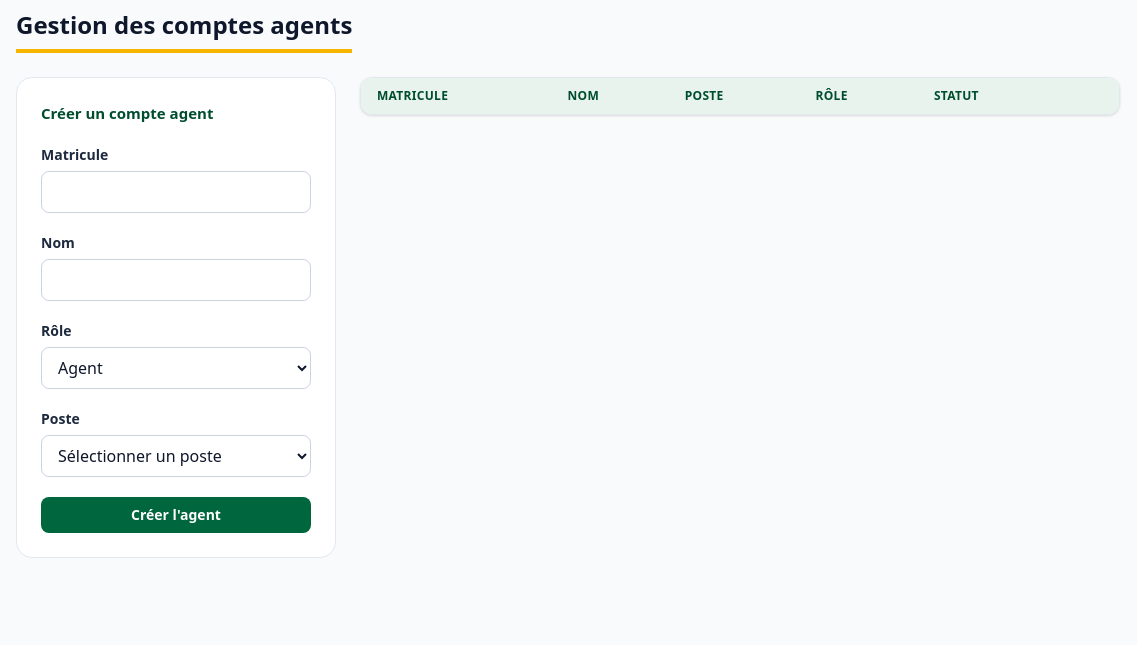
Test case: AgentsPage › affiche le message backend quand la création échoue
The width and height of the screenshot is (1137, 645).
Type "PN-1" into the field labelled "Matricule". click: (176, 192)
box: [41,170,311,212]
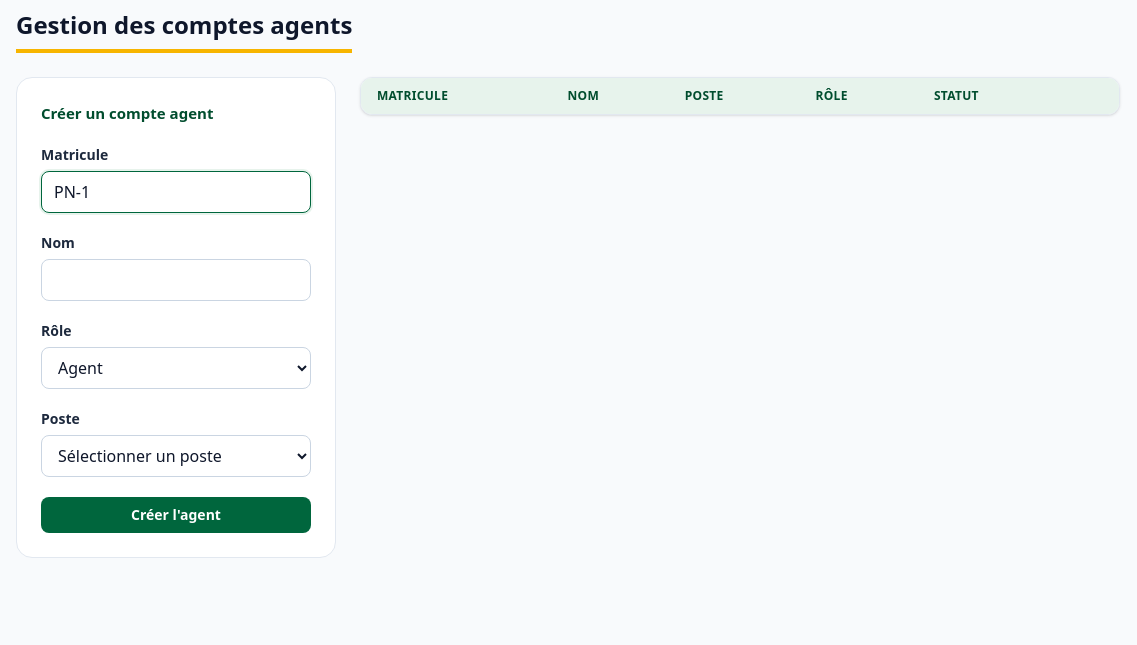
Type "Sow" into the field labelled "Nom". click: (176, 280)
box: [41,258,311,300]
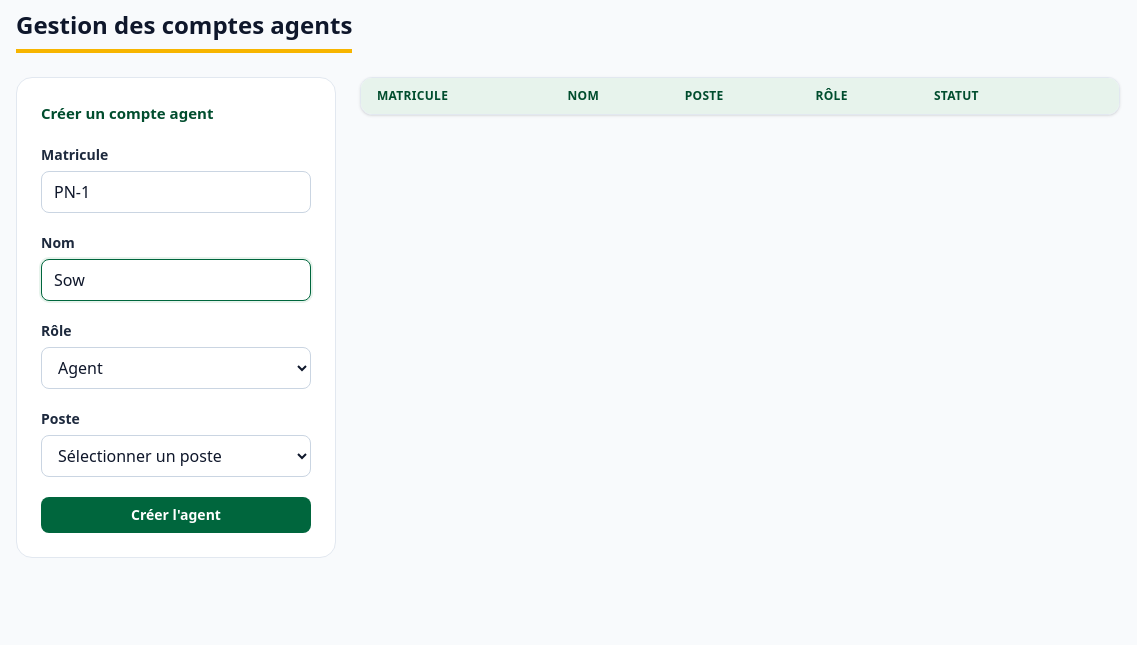
Select "Dakar" in the dropdown labelled "Poste". click: (176, 456)
box: [41,434,311,476]
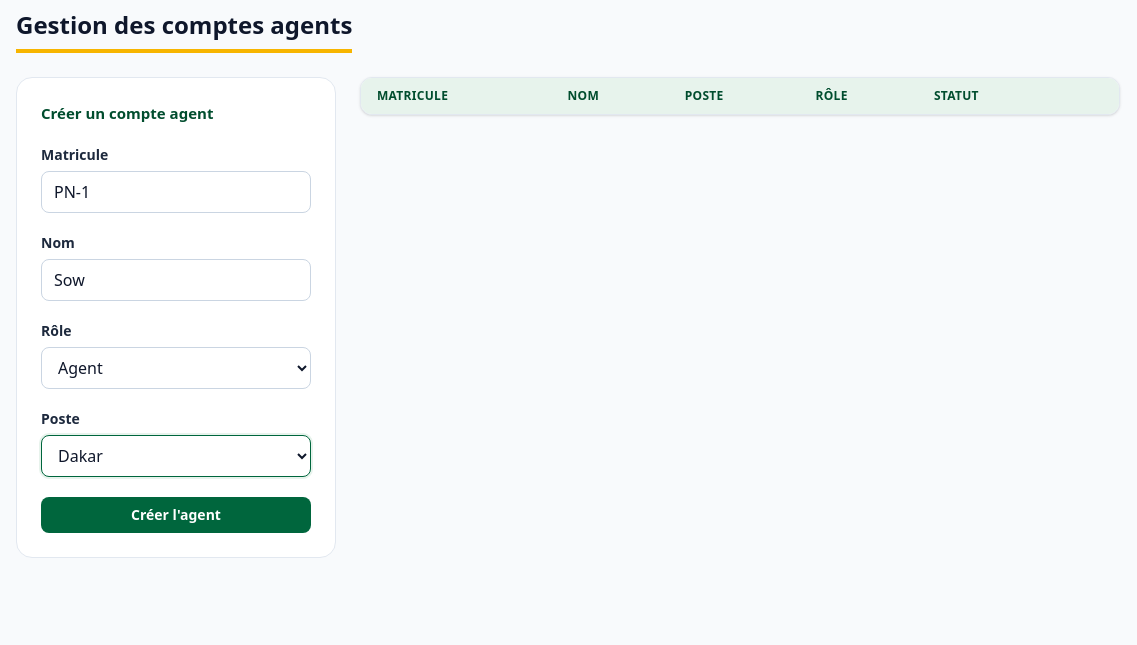
Click the button "Créer l'agent". click: (176, 514)
box: [41,496,311,532]
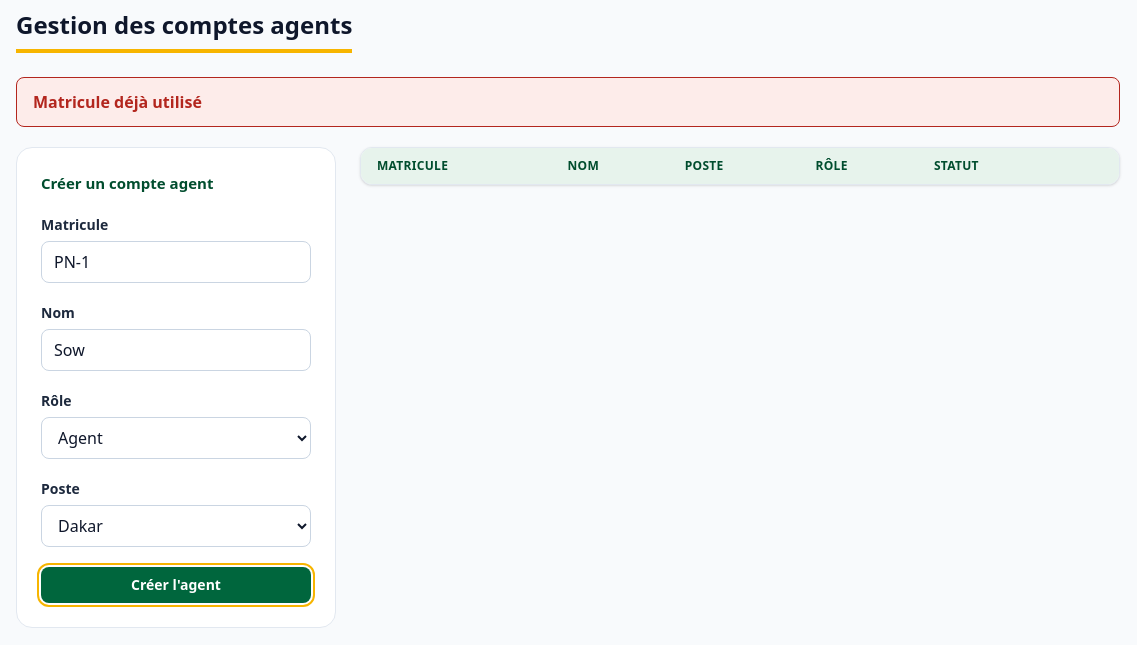
Expected: the message reads "Matricule déjà utilisé", [33,91,202,113]
